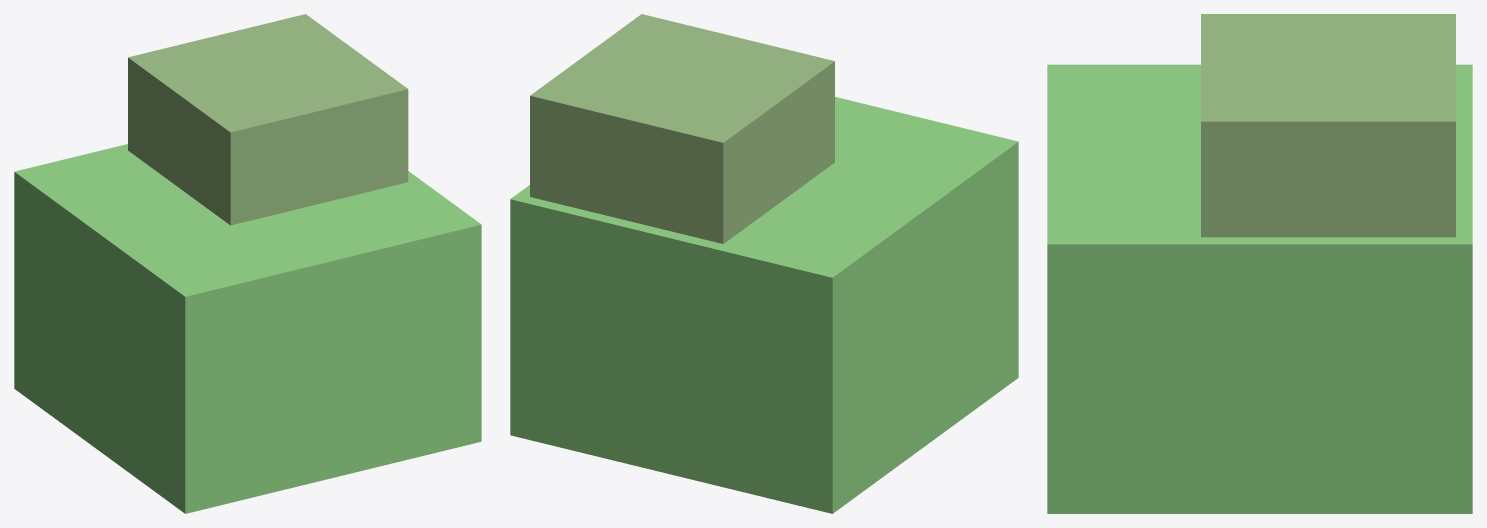
Rendered from Prop_Dress_AMF_Bush_V14.glb.
3 views of the same model, side by side, from view 1: azimuth 30°, elevation 25°; view 2: azimuth 150°, elevation 25°; view 3: azimuth 270°, elevation 25° (orthographic). The views are drawn at different scales.
Visible parts, largest first — view 1: Prop_Dress_AMF_Bush_V14; view 2: Prop_Dress_AMF_Bush_V14; view 3: Prop_Dress_AMF_Bush_V14.
Part boxes in pixels (<box>): Prop_Dress_AMF_Bush_V14: <box>14,14,481,513</box>; Prop_Dress_AMF_Bush_V14: <box>510,14,1018,513</box>; Prop_Dress_AMF_Bush_V14: <box>1047,14,1472,513</box>.
Bounding box in the file's own units: 0.6208 × 0.6208 × 0.6208.
